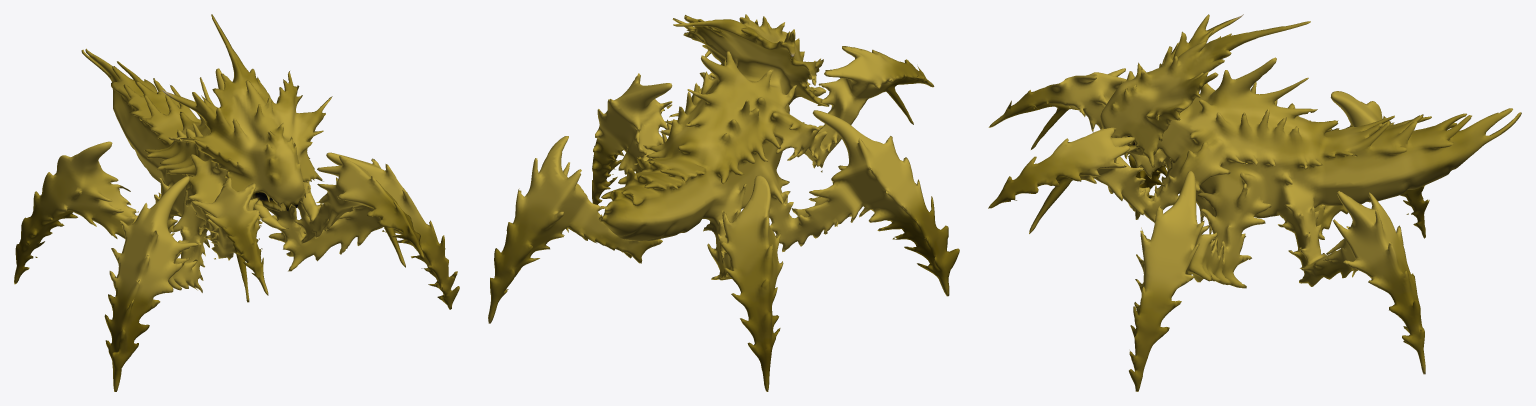
File: guerriero.glb
The picture shows the model from 3 angles, left to right: view 1: azimuth 30°, elevation 25°; view 2: azimuth 150°, elevation 25°; view 3: azimuth 270°, elevation 25°; orthographic projection. The views are drawn at different scales.
Parts seen in each view (by area): view 1: insectonuevo; view 2: insectonuevo; view 3: insectonuevo.
Part boxes in pixels (x1=…): insectonuevo: x1=14, y1=14, x2=459, y2=391; insectonuevo: x1=488, y1=14, x2=959, y2=391; insectonuevo: x1=988, y1=14, x2=1521, y2=391.
Bounding box in the file's own units: 24.13 × 18.21 × 30.25.
